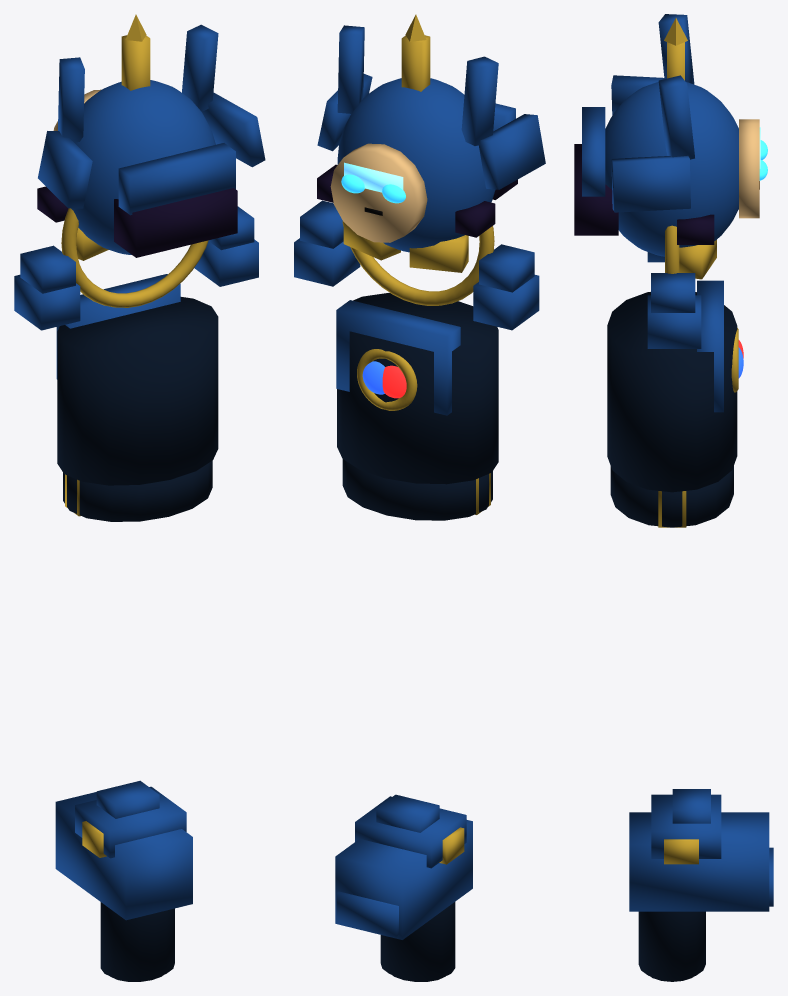
File: kyuroku.glb
3 renders of one model, left to right at view 1: azimuth 30°, elevation 25°; view 2: azimuth 150°, elevation 25°; view 3: azimuth 270°, elevation 25°, orthographic.
Visible parts, largest first — view 1: Torso, Helm, BootL, HairBack, HelmBack, Pelvis, ThighMeshL, AnkleArmorL, HelmBand, FinSideL, FinSideR, ShldrPadL (+10 smaller); view 2: Torso, Helm, BootL, Face, ChestPlate, Pelvis, ThighMeshL, FinSideL, AnkleArmorL, FinUpL, HelmBand, ShldrPadL (+16 smaller); view 3: Torso, Helm, BootL, ThighMeshL, FinSideR, Pelvis, AnkleArmorL, ChestPlate, FinUpR, HairBack, ShldrPadR, HelmBack (+10 smaller).
Part boxes in pixels (x1,y1,x2,y2): Torso: [57, 297, 218, 485]; Helm: [71, 80, 215, 254]; BootL: [55, 792, 192, 920]; HairBack: [114, 188, 237, 257]; HelmBack: [118, 143, 235, 215]; Pelvis: [63, 460, 212, 521]; ThighMeshL: [100, 902, 174, 980]; AnkleArmorL: [75, 786, 186, 858]; HelmBand: [61, 208, 208, 307]; FinSideL: [38, 131, 92, 208]; FinSideR: [202, 92, 265, 167]; ShldrPadL: [14, 274, 80, 330]; Torso: [337, 293, 498, 484]; Helm: [337, 78, 495, 252]; BootL: [335, 820, 472, 939]; Face: [330, 143, 427, 242]; ChestPlate: [336, 300, 460, 415]; Pelvis: [342, 459, 492, 520]; ThighMeshL: [380, 902, 455, 980]; FinSideL: [478, 114, 545, 189]; AnkleArmorL: [355, 796, 466, 868]; FinUpL: [461, 56, 498, 145]; HelmBand: [342, 221, 494, 305]; ShldrPadL: [473, 275, 539, 330]; Torso: [607, 292, 737, 492]; Helm: [605, 82, 738, 256]; BootL: [629, 812, 769, 911]; ThighMeshL: [638, 911, 705, 980]; FinSideR: [611, 155, 690, 212]; Pelvis: [610, 466, 733, 527]; AnkleArmorL: [651, 794, 721, 858]; ChestPlate: [697, 280, 723, 412]; FinUpR: [658, 75, 694, 159]; HairBack: [574, 144, 618, 235]; ShldrPadR: [647, 295, 701, 348]; HelmBack: [582, 107, 605, 196].
Size of the model in its own units: 0.536 by 2.25 by 0.4265.
